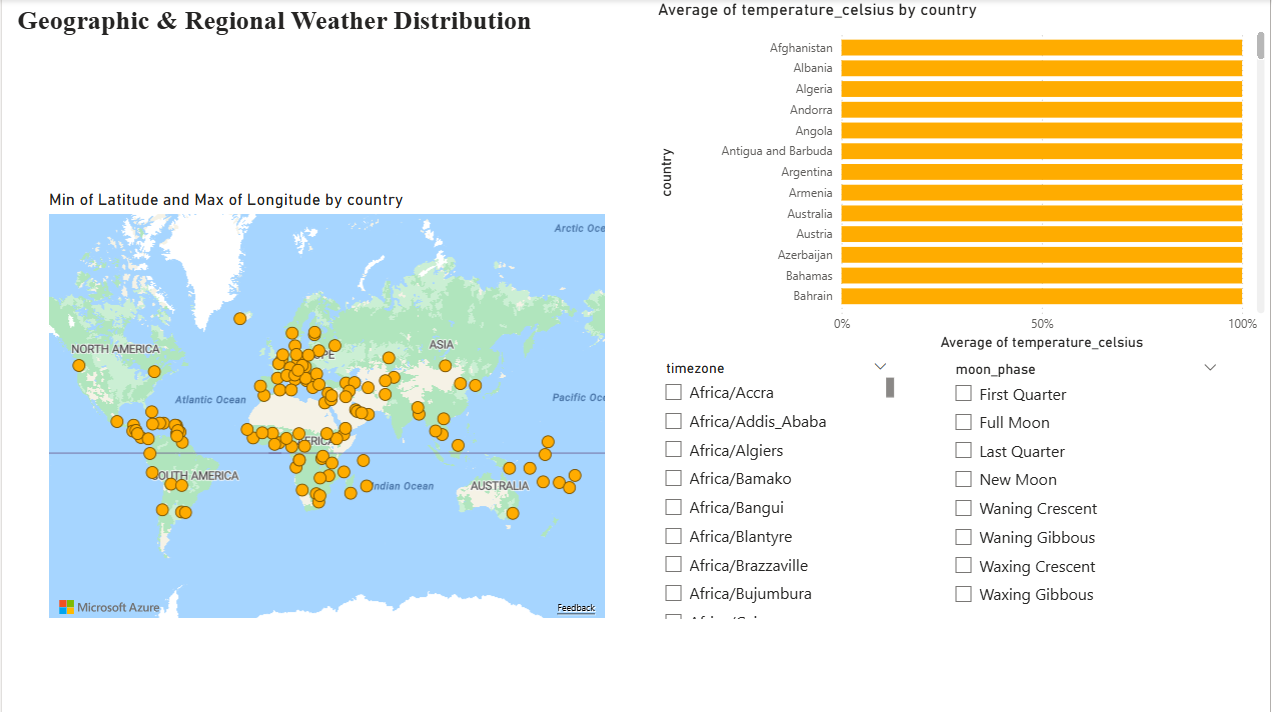

Layout of this report page (visuals, bound fields, positions):
{"tool":"powerbi","page":{"name":"Page 3","canvas":[1280,720],"ordinal":2},"visuals":[{"type":"textbox","box":[10.6,0,570.9,81.8],"z":0},{"type":"azureMap","fields":{"Category":["Dim_Location.country"],"X":["Max(Dim_Location.Longitude)"],"Y":["Min(Dim_Location.Latitude)"]},"box":[42.4,57.5,570.9,572.4],"z":1},{"type":"hundredPercentStackedBarChart","fields":{"Category":["Dim_Location.country"],"Y":["Avg(GlobalWeatherRepository.temperature_celsius)"]},"box":[657.2,0,622.3,358.9],"z":2},{"type":"slicer","fields":{"Values":["GlobalWeatherRepository.timezone"]},"box":[657.2,358.9,248.3,271],"z":3},{"type":"slicer","fields":{"Values":["GlobalWeatherRepository.moon_phase"]},"box":[949.4,360.4,289.2,271],"z":4}]}

Visuals, with their boxes in screenshot pixels (x1, y1, x2, y2), scaled from the page's 1280x720 canvas onto the 1272x712 screenshot:
textbox: left=11, top=0, right=578, bottom=81
azureMap - Dim_Location.country x Max(Dim_Location.Longitude): left=42, top=57, right=609, bottom=623
hundredPercentStackedBarChart - Dim_Location.country x Avg(GlobalWeatherRepository.temperature_celsius): left=653, top=0, right=1271, bottom=355
slicer - GlobalWeatherRepository.timezone: left=653, top=355, right=900, bottom=623
slicer - GlobalWeatherRepository.moon_phase: left=943, top=356, right=1231, bottom=624
